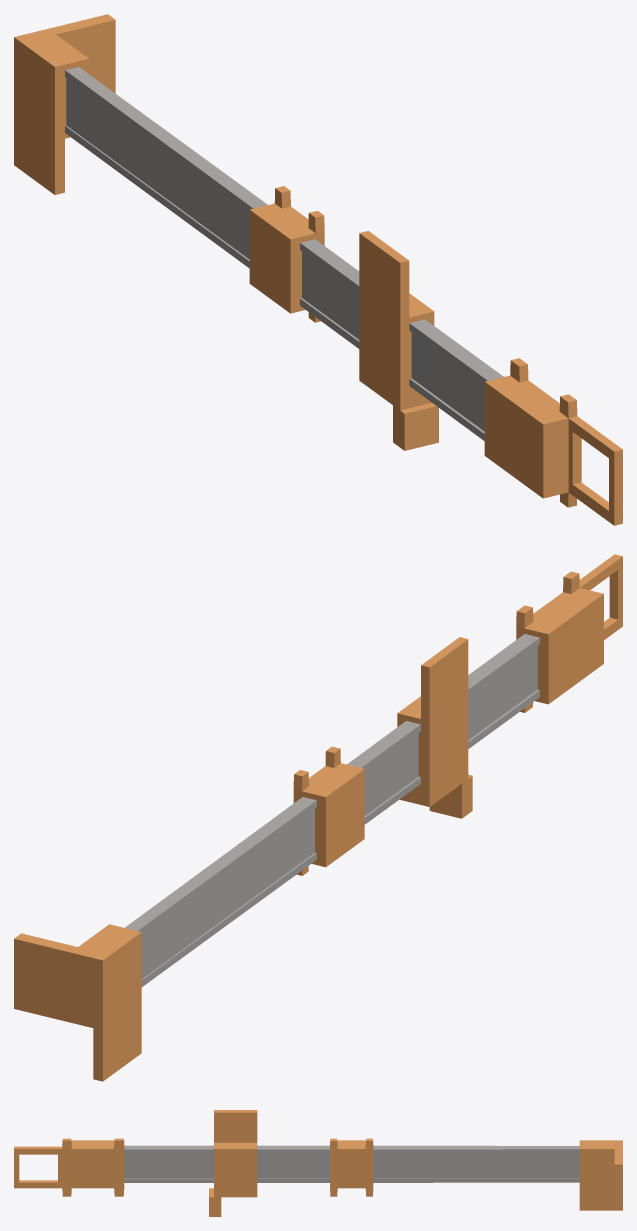
The model's file is 74c0581f-ddfc-4e01-bc2d-8466414659fa.glb.
The picture shows the model from 3 angles, top to bottom: view 1: azimuth 30°, elevation 25°; view 2: azimuth 150°, elevation 25°; view 3: azimuth 270°, elevation 25°; orthographic projection. The views are drawn at different scales.
Visible parts, largest first — view 1: DebrisShieldAid; view 2: DebrisShieldAid; view 3: DebrisShieldAid.
Boxes of the visible parts, x1,y1,x2,y2 form: DebrisShieldAid: (14, 14, 622, 525); DebrisShieldAid: (14, 554, 622, 1081); DebrisShieldAid: (14, 1110, 622, 1216).
Size of the model in its own units: 0.146 by 0.2744 by 1.55.
1 material, 1 textured.
